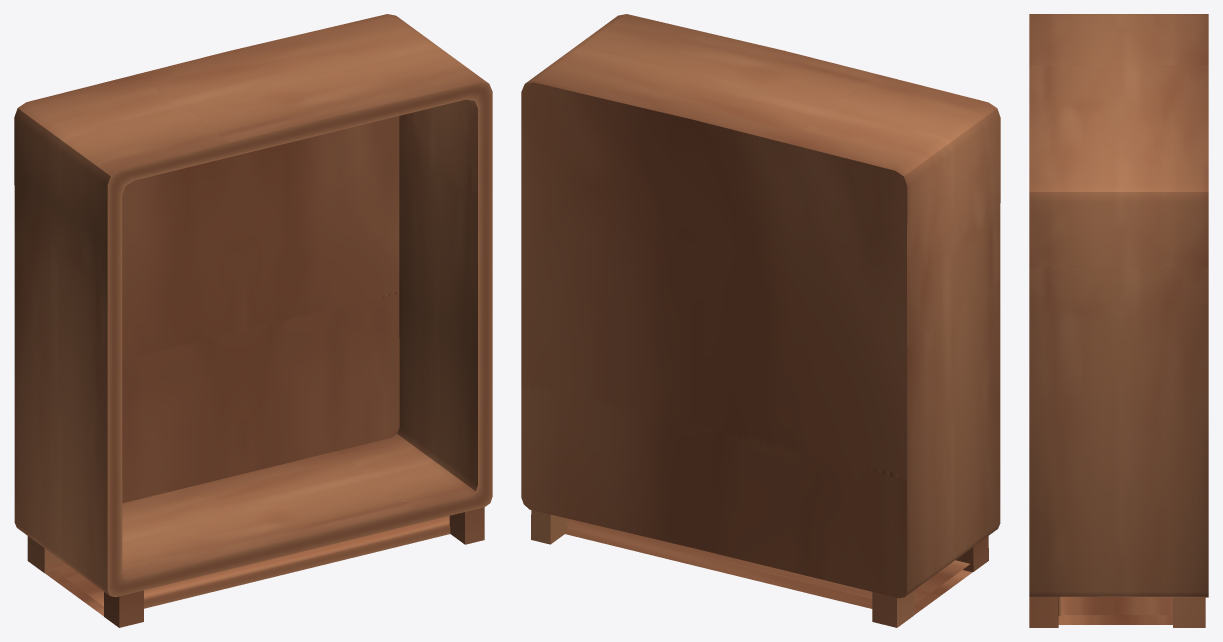
Rendered from regal.fbx.
3 views of the same model, side by side, from view 1: azimuth 30°, elevation 25°; view 2: azimuth 150°, elevation 25°; view 3: azimuth 270°, elevation 25° (orthographic). The views are drawn at different scales.
Parts seen in each view (by area): view 1: frame, fach; view 2: frame, fach; view 3: frame, fach.
Boxes of the visible parts, x1,y1,x2,y2 form: frame: [14, 14, 492, 627]; fach: [45, 516, 450, 616]; frame: [521, 14, 1000, 627]; fach: [565, 518, 972, 614]; frame: [1029, 14, 1208, 627]; fach: [1058, 596, 1172, 624].
Bounding box in the file's own units: 191 × 218 × 79.94.
